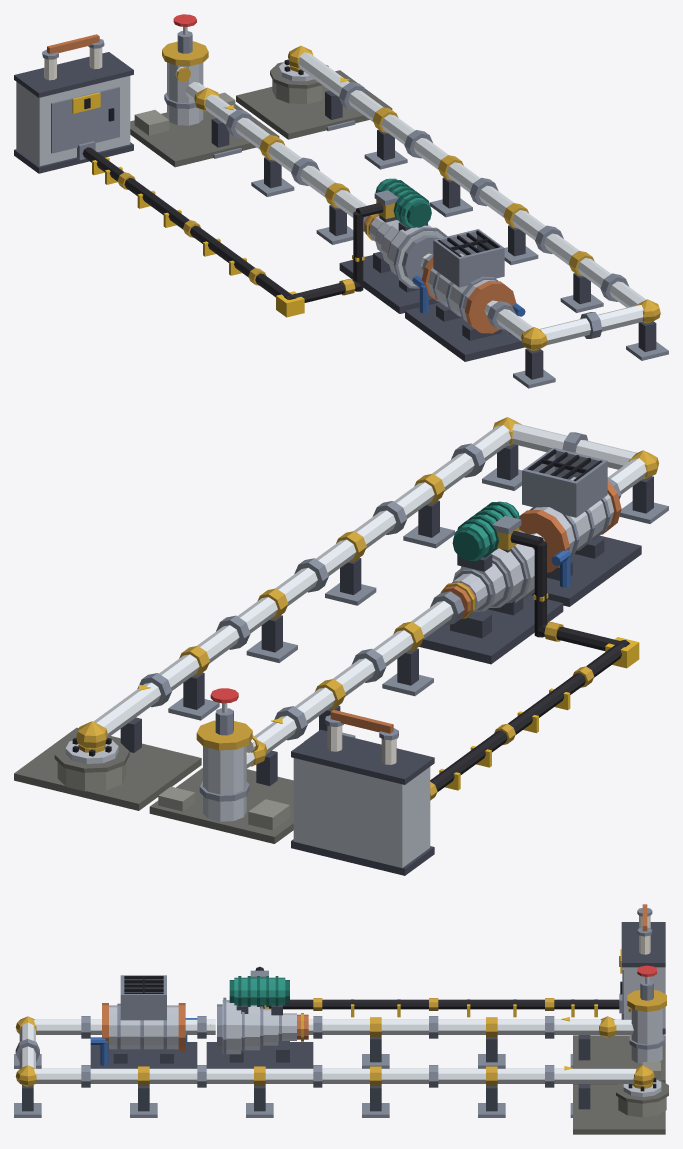
File: geothermal-line-preview.glb
3 renders of one model, top to bottom at view 1: azimuth 30°, elevation 25°; view 2: azimuth 150°, elevation 25°; view 3: azimuth 270°, elevation 25°, orthographic. The views are drawn at different scales.
Visible parts, largest first — view 1: geothermal-line-preview; view 2: geothermal-line-preview; view 3: geothermal-line-preview.
Boxes of the visible parts, bbox=[...] form: geothermal-line-preview: bbox=[14, 14, 668, 388]; geothermal-line-preview: bbox=[14, 417, 668, 875]; geothermal-line-preview: bbox=[14, 904, 668, 1134].
Bounding box in the file's own units: 2.88 × 0.94 × 5.65.
1 material, 1 textured.
